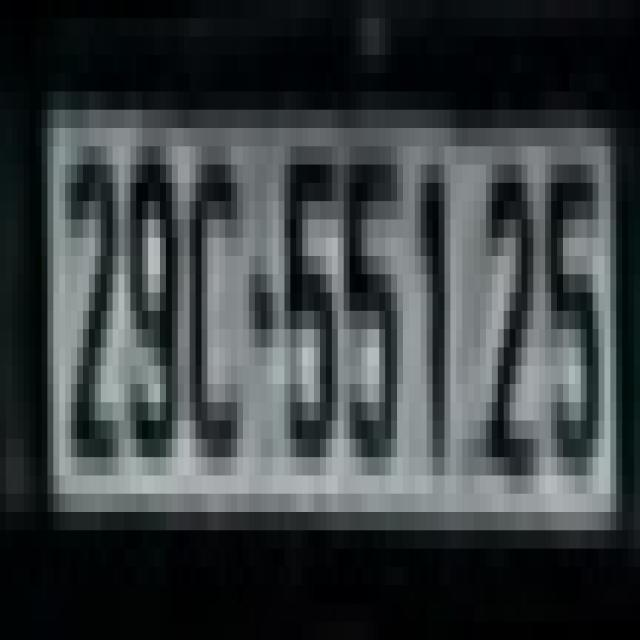1: (421, 164, 456, 476)
2: (480, 164, 540, 476), (60, 146, 119, 457)
5: (545, 147, 605, 476), (344, 146, 404, 457), (284, 146, 338, 457)
9: (124, 146, 178, 457)
C: (190, 146, 243, 457)
